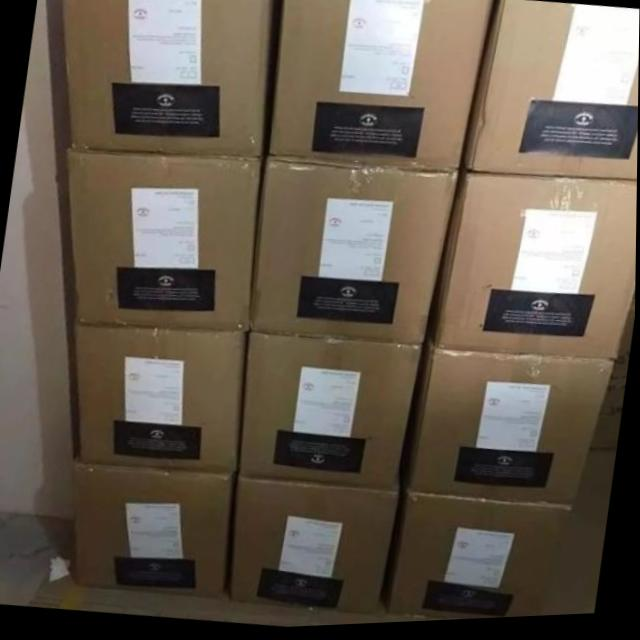box: (427, 173, 638, 366), (251, 160, 460, 349), (268, 0, 493, 174), (402, 339, 615, 512), (67, 149, 264, 331), (62, 0, 279, 159), (462, 2, 640, 185), (238, 333, 424, 491), (76, 323, 249, 475), (383, 493, 574, 624), (231, 479, 401, 616), (75, 462, 236, 596)
